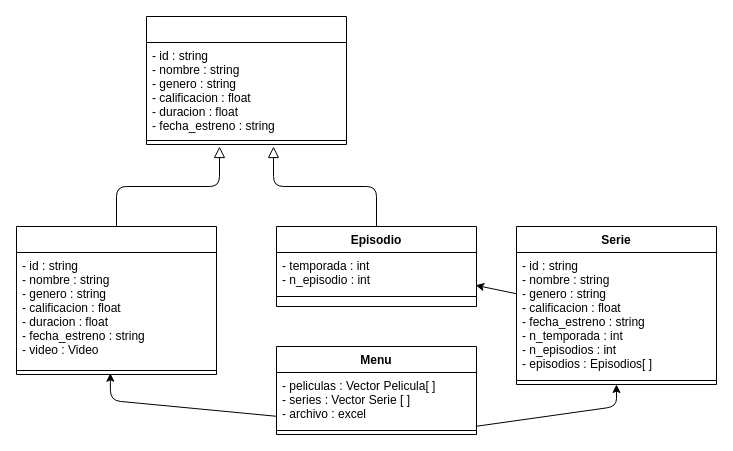
The diagram is 733 pixels wide and 451 high, and some of its shapes have lost their labels. Each missing label, with the box of its shape:
Pelicula: (16, 226, 216, 374)
Video: (146, 16, 346, 144)
